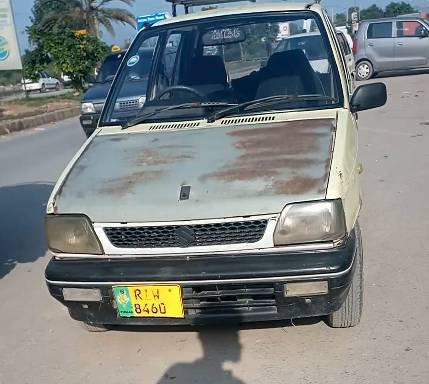number_plate: (111, 281, 186, 322)
